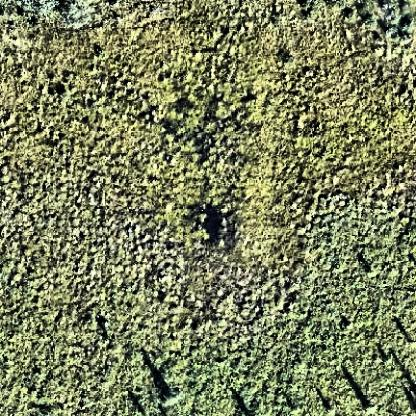tree-top: (159, 388, 180, 408), (363, 399, 378, 412)
